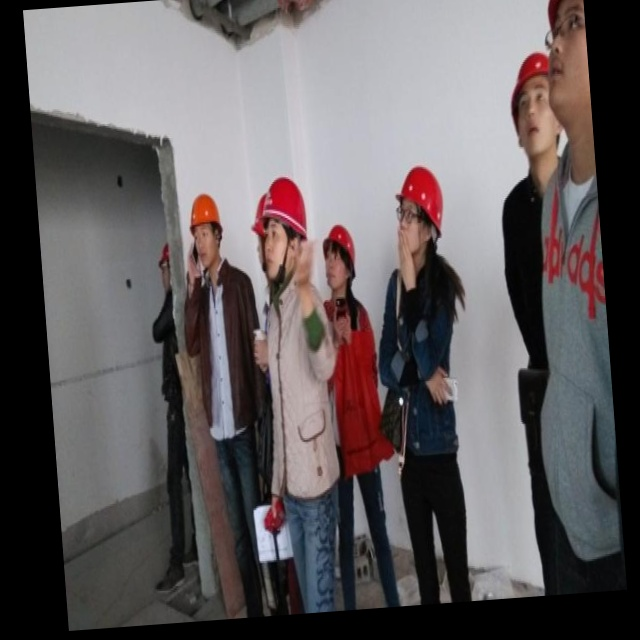Con_Casco: (262, 175, 314, 284), (188, 194, 224, 266)
Sin_Chaleco: (261, 284, 336, 499)
